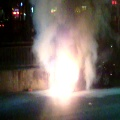fire: (46, 50, 79, 101)
